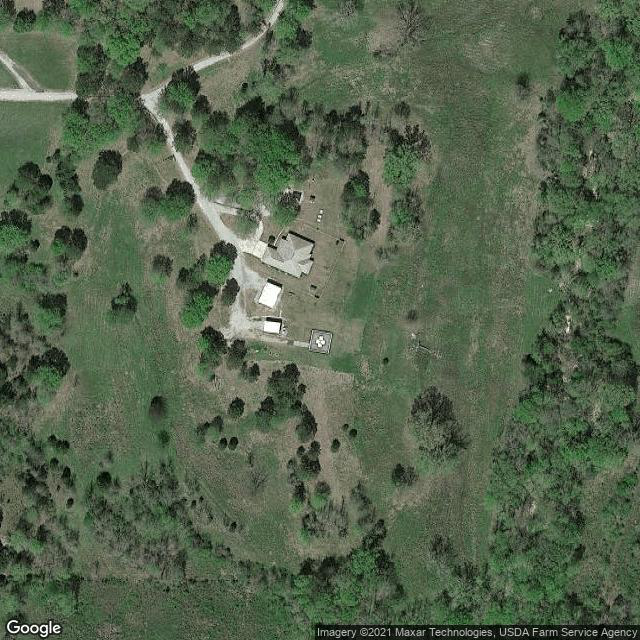Helipad: (307, 326, 334, 355)
